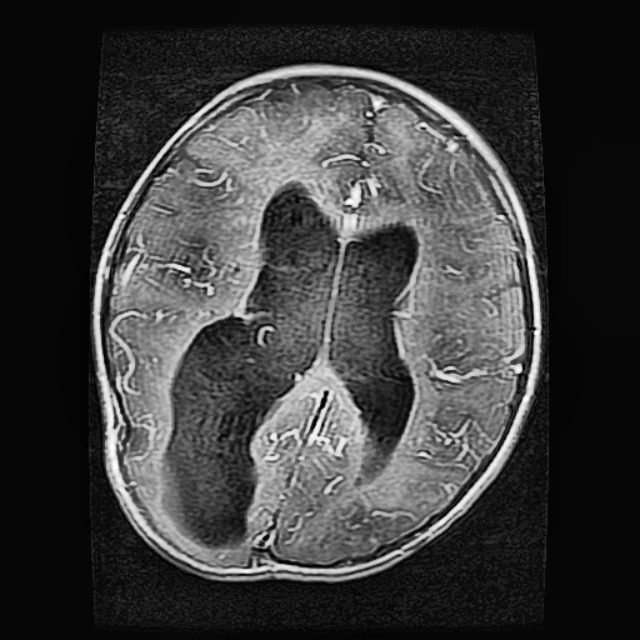Glioma: (162, 305, 309, 545)
